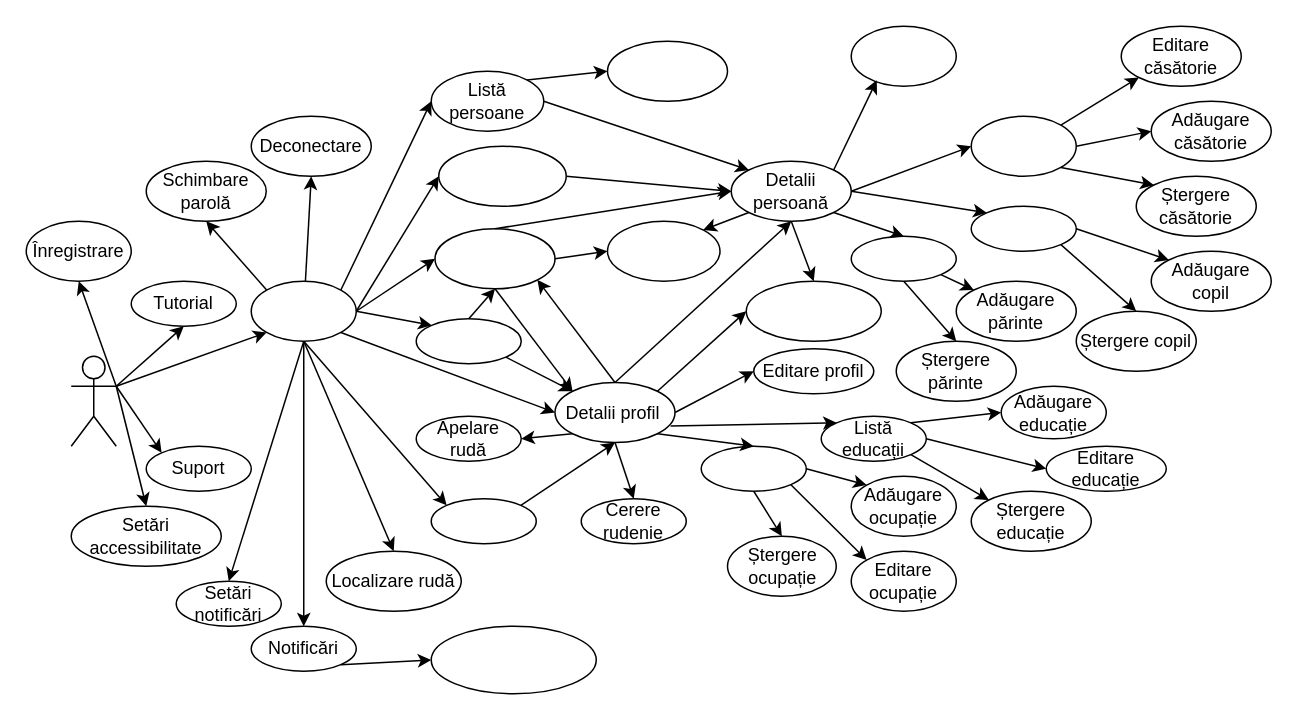
Image size: 1298x720. Some labels were removed from this diagram. The centre of each missing label's shape, as x and y in pixels:
Adăugare persoană: the point at 667,70
Arbore genealogic: the point at 494,258
Autentificare: the point at 303,310
Căutare rude: the point at 483,520
Editare persoană: the point at 663,250
Evenimente arbore: the point at 501,175
Listă copii: the point at 1023,228
Listă căsătorii: the point at 1023,145
Listă ocupație: the point at 753,468
Listă părinți: the point at 903,258
Listă rude: the point at 468,340
Răspuns cerere rudenie: the point at 513,659
Schimbare poză: the point at 813,310
Utilizator: the point at 93,400
Ștergere persoană: the point at 903,55
